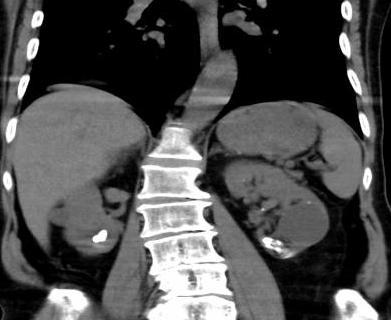Tas_Var: (87, 224, 109, 250), (261, 236, 274, 244), (264, 242, 274, 250), (274, 246, 282, 253), (258, 208, 269, 212), (276, 239, 282, 246), (306, 200, 312, 204)
